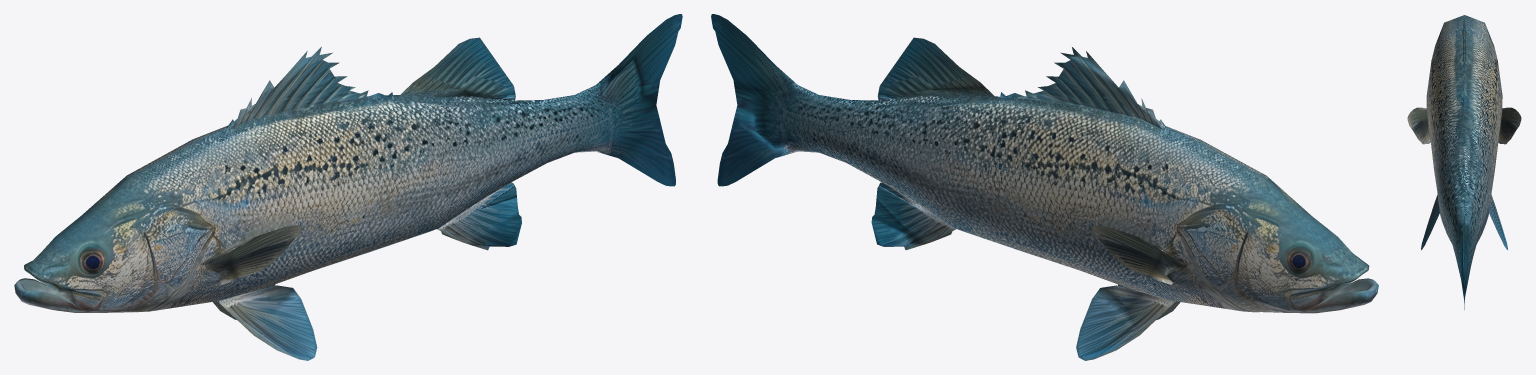
File: nongeo.glb
The picture shows the model from 3 angles, left to right: view 1: azimuth 30°, elevation 25°; view 2: azimuth 150°, elevation 25°; view 3: azimuth 270°, elevation 25°; orthographic projection. The views are drawn at different scales.
Parts seen in each view (by area): view 1: tripo_node_de27f759-17df-47e6-a232-560622bc34f1; view 2: tripo_node_de27f759-17df-47e6-a232-560622bc34f1; view 3: tripo_node_de27f759-17df-47e6-a232-560622bc34f1.
Boxes of the visible parts, x1,y1,x2,y2 form: tripo_node_de27f759-17df-47e6-a232-560622bc34f1: (14, 14, 682, 360); tripo_node_de27f759-17df-47e6-a232-560622bc34f1: (711, 14, 1378, 360); tripo_node_de27f759-17df-47e6-a232-560622bc34f1: (1407, 15, 1521, 309).
Bounding box in the file's own units: 0.9995 × 0.4126 × 0.1733.
Materials: 1 (1 with a texture image).
